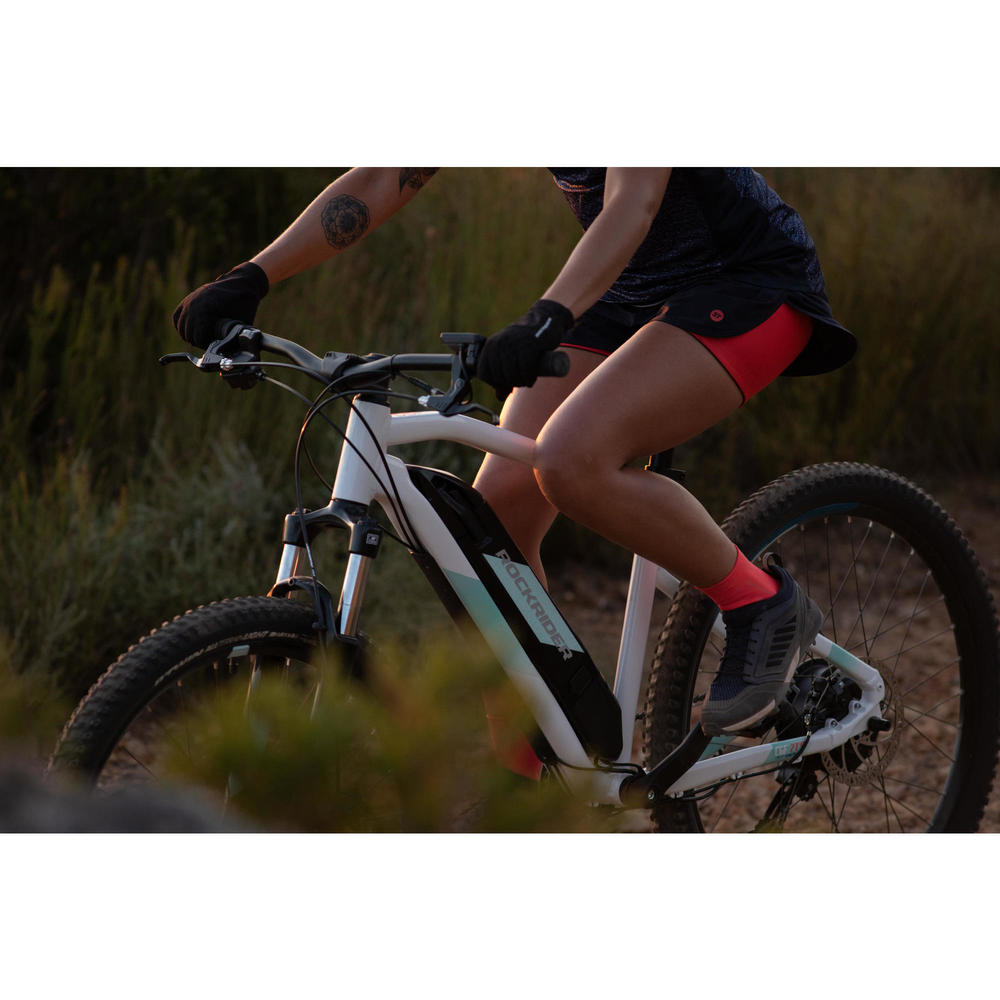MountainBike: (30, 305, 994, 840)
